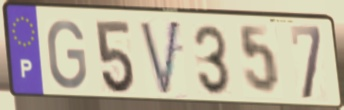3: (192, 23, 230, 98)
5: (236, 23, 283, 102), (93, 18, 137, 96)
7: (288, 23, 324, 105)
G: (46, 18, 89, 92)
V: (137, 17, 183, 100)
